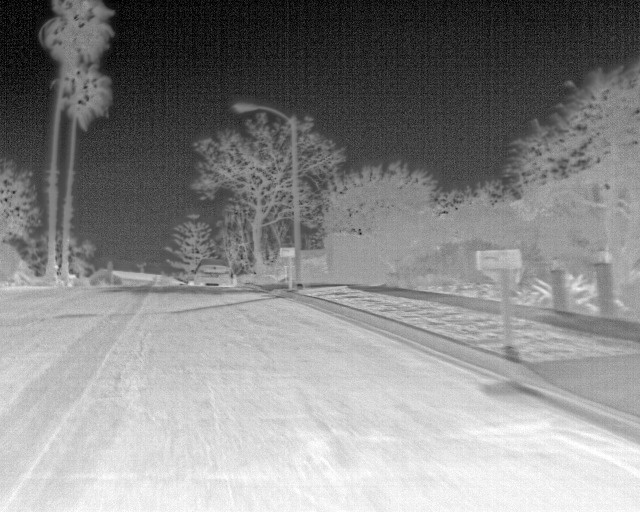vehicle: (190, 256, 237, 291)
